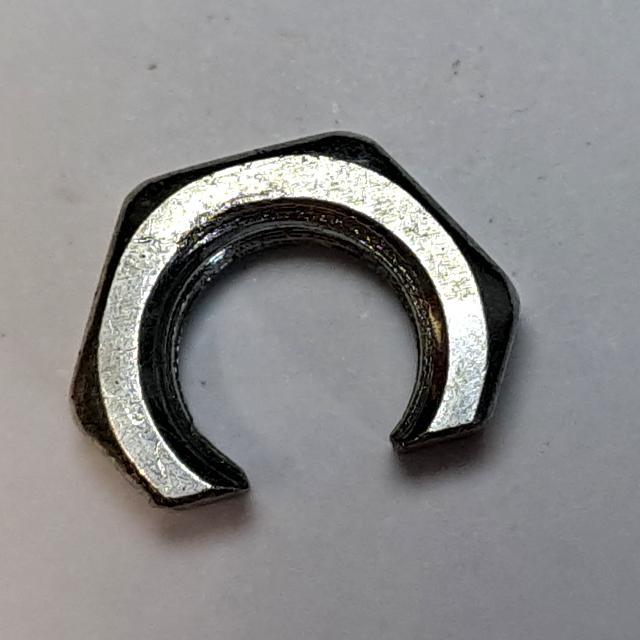Fracture: (53, 115, 531, 529)
